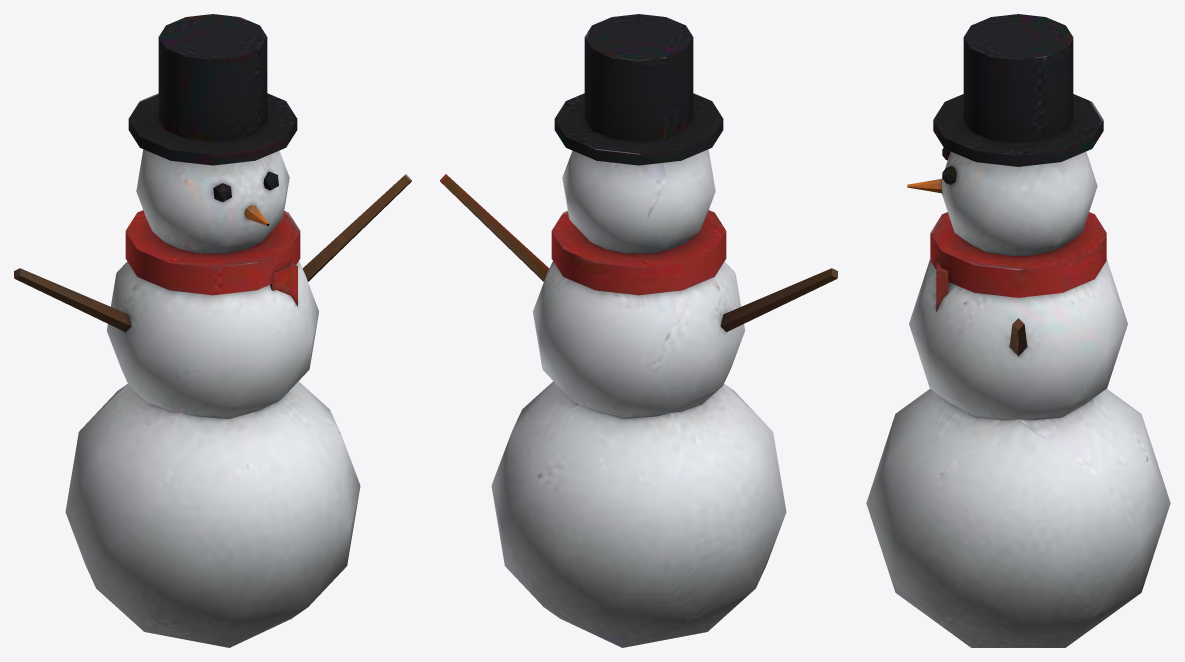
Rendered from muneco_acera.glb.
The picture shows the model from 3 angles, left to right: view 1: azimuth 30°, elevation 25°; view 2: azimuth 150°, elevation 25°; view 3: azimuth 270°, elevation 25°; orthographic projection.
Parts seen in each view (by area): view 1: muneco_acera; view 2: muneco_acera; view 3: muneco_acera.
Part boxes in pixels (bbox=[...]): muneco_acera: bbox=[14, 14, 411, 647]; muneco_acera: bbox=[440, 14, 837, 647]; muneco_acera: bbox=[866, 14, 1170, 647].
Size of the model in its own units: 1.52 by 2.19 by 1.
1 material, 1 textured.
